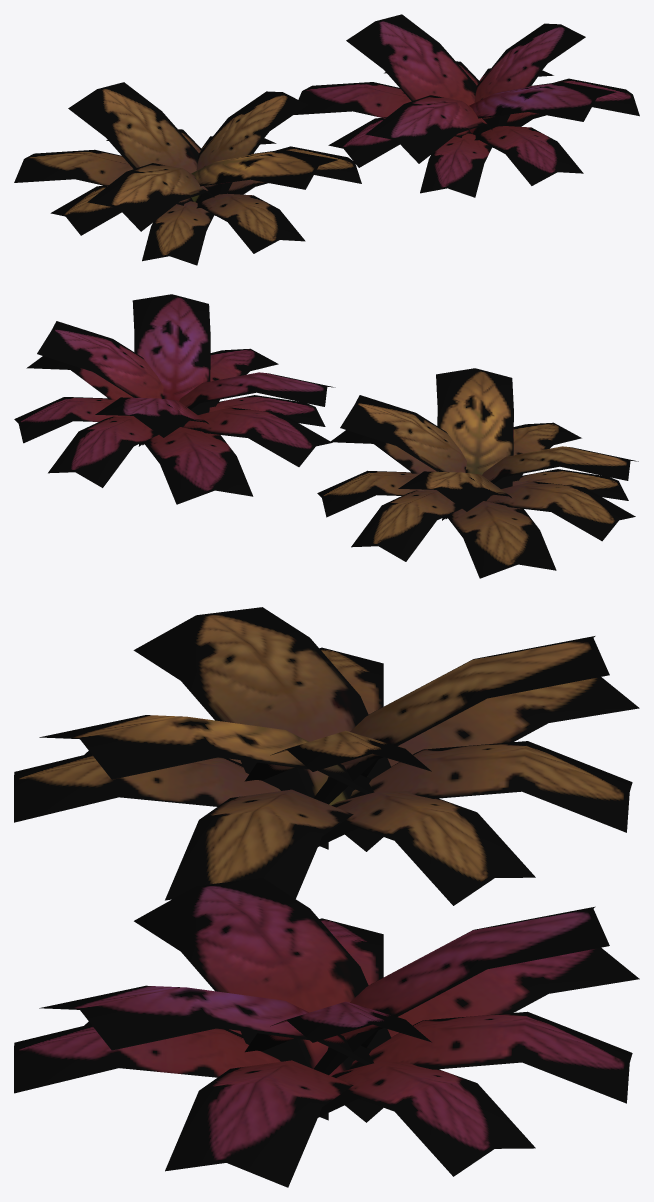
Rendered from 2_Plant_KuoYeCao_01.FBX.
3 views of the same model, one above another, from view 1: azimuth 30°, elevation 25°; view 2: azimuth 150°, elevation 25°; view 3: azimuth 270°, elevation 25° (orthographic). The views are drawn at different scales.
Visible parts, largest first — view 1: 2_Plant_KuoYeCao_01, 2_Plant_KuoYeCao_02; view 2: 2_Plant_KuoYeCao_01, 2_Plant_KuoYeCao_02; view 3: 2_Plant_KuoYeCao_02, 2_Plant_KuoYeCao_01.
Boxes of the visible parts, left/top/right/bottom form: 2_Plant_KuoYeCao_01: left=14, top=82, right=361, bottom=265; 2_Plant_KuoYeCao_02: left=294, top=14, right=639, bottom=197; 2_Plant_KuoYeCao_01: left=317, top=368, right=638, bottom=578; 2_Plant_KuoYeCao_02: left=14, top=294, right=335, bottom=504; 2_Plant_KuoYeCao_02: left=14, top=878, right=639, bottom=1187; 2_Plant_KuoYeCao_01: left=14, top=607, right=639, bottom=905.
Bounding box in the file's own units: 576 × 87.69 × 283.
1 material, 1 textured.
